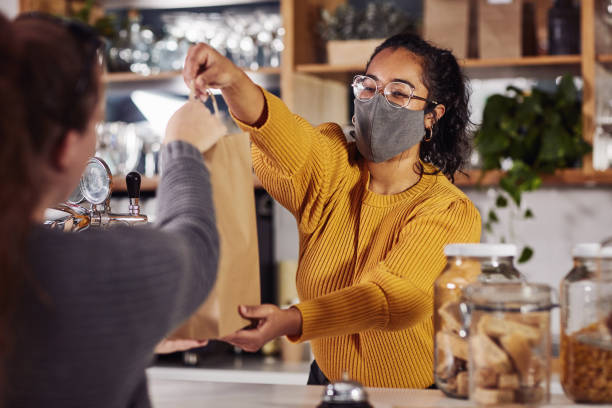with mask: (347, 39, 439, 169)
